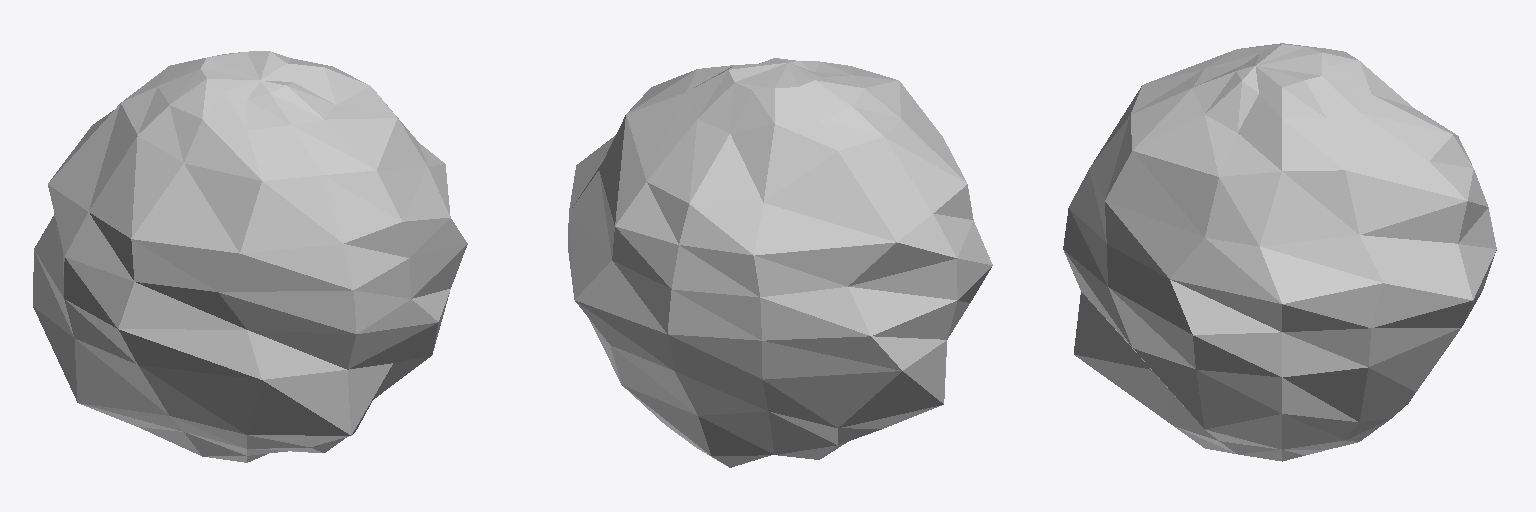
Rendered from Marcophage Nucleus.obj.
The picture shows the model from 3 angles: view 1: azimuth 30°, elevation 25°; view 2: azimuth 150°, elevation 25°; view 3: azimuth 270°, elevation 25°; orthographic projection.
Visible parts, largest first — view 1: Sphere.005_Sphere.007; view 2: Sphere.005_Sphere.007; view 3: Sphere.005_Sphere.007.
Part boxes in pixels (x1,y1,x2,y2): Sphere.005_Sphere.007: (33,51,467,462); Sphere.005_Sphere.007: (568,58,992,467); Sphere.005_Sphere.007: (1063,43,1496,461).
Size of the model in its own units: 2.46 by 2.35 by 2.43.